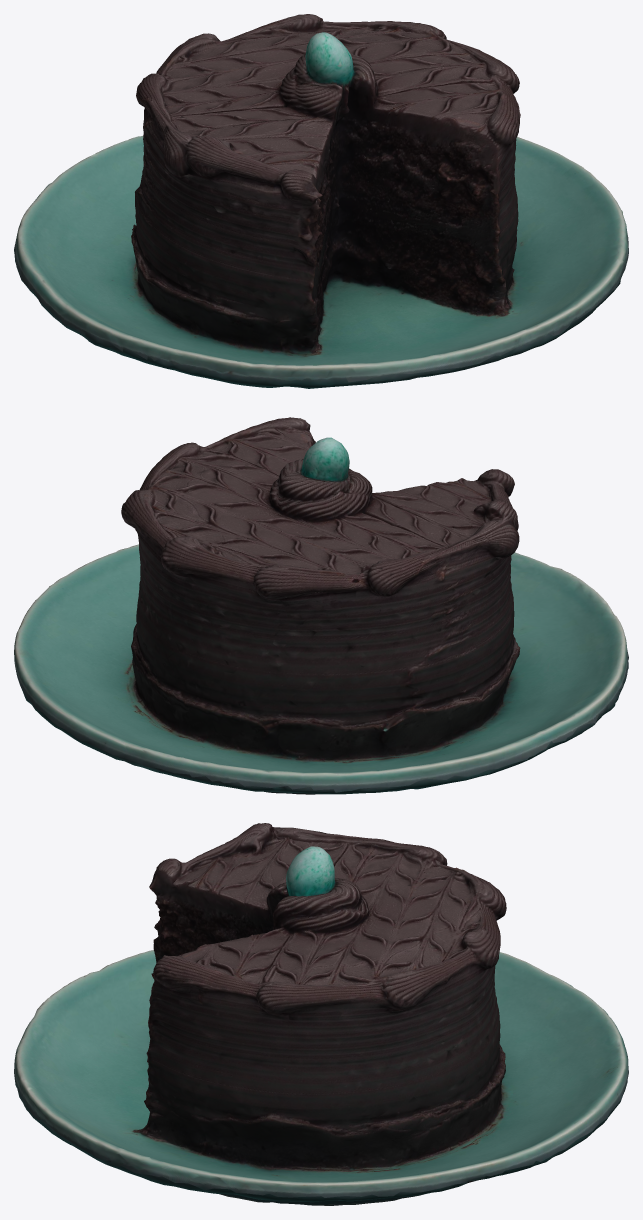
The model's file is NRS_Cake_OBJ.gltf.
The picture shows the model from 3 angles, top to bottom: view 1: azimuth 30°, elevation 25°; view 2: azimuth 150°, elevation 25°; view 3: azimuth 270°, elevation 25°; orthographic projection.
Parts seen in each view (by area): view 1: node-0; view 2: node-0; view 3: node-0.
Boxes of the visible parts, x1,y1,x2,y2 form: node-0: (14, 14, 628, 388); node-0: (14, 417, 628, 794); node-0: (14, 823, 628, 1205).
Size of the model in its own units: 94.59 by 45.04 by 94.21.
Materials: 2 (2 with a texture image).
